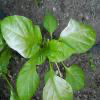Tomato leaf: (14, 50, 45, 99), (47, 40, 75, 63)
